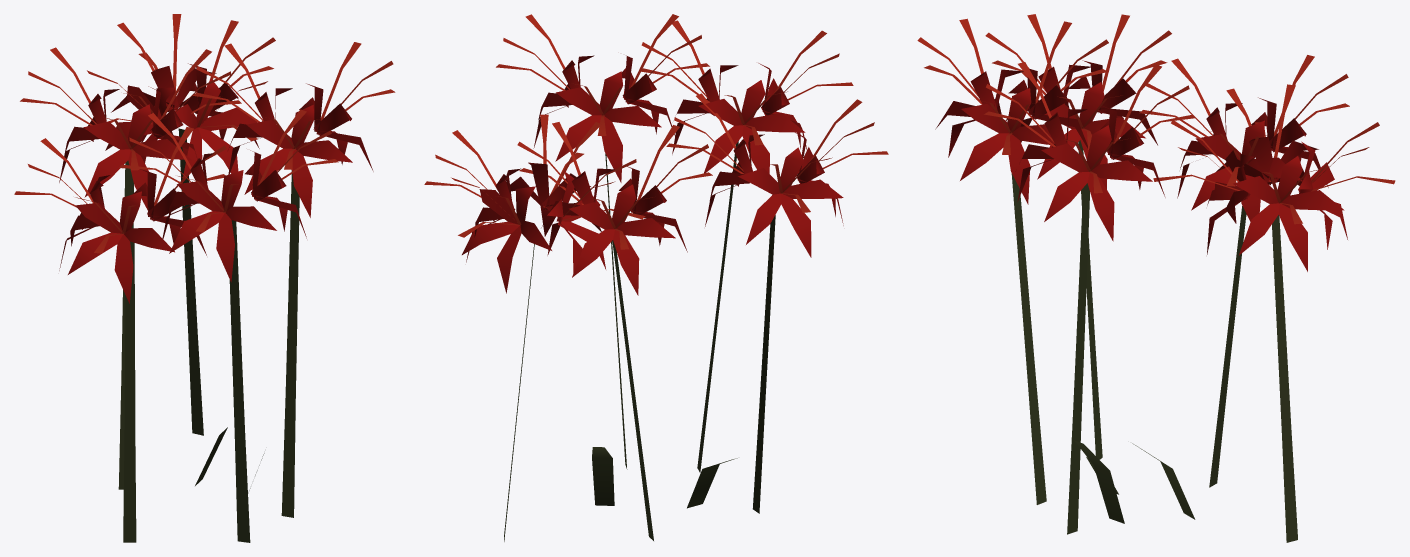
File: flowers_red.glb
The picture shows the model from 3 angles, left to right: view 1: azimuth 30°, elevation 25°; view 2: azimuth 150°, elevation 25°; view 3: azimuth 270°, elevation 25°; orthographic projection. The views are drawn at different scales.
Visible parts, largest first — view 1: FlowersRed_mesh; view 2: FlowersRed_mesh; view 3: FlowersRed_mesh.
Boxes of the visible parts, x1,y1,x2,y2 form: FlowersRed_mesh: (14, 14, 395, 542); FlowersRed_mesh: (424, 14, 888, 541); FlowersRed_mesh: (917, 14, 1395, 542).
Size of the model in its own units: 0.3707 by 0.4325 by 0.4224.
